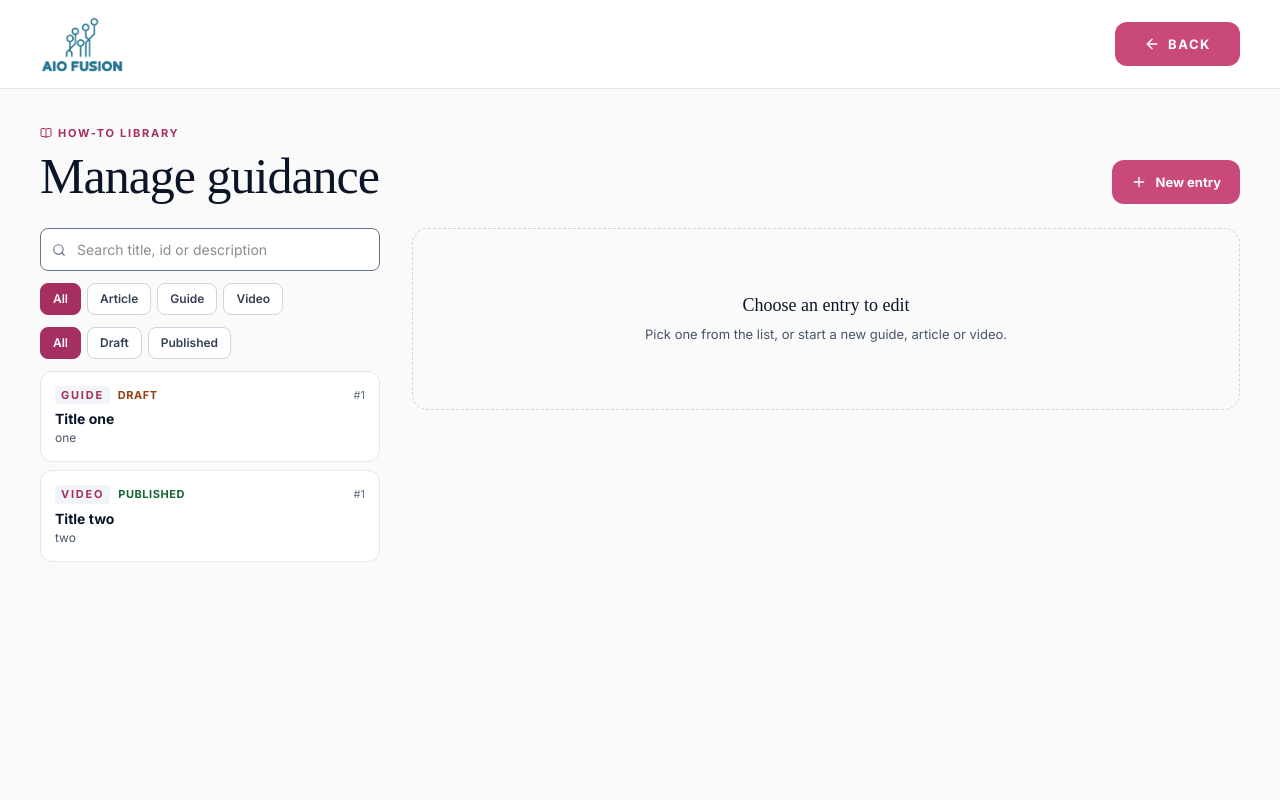
Test: HowtoAdminPage › guards switching entries when dirty and warns before unload
Step 1. Click the button with test id "row-entry-one" → (82, 395), box [40,371,380,462]
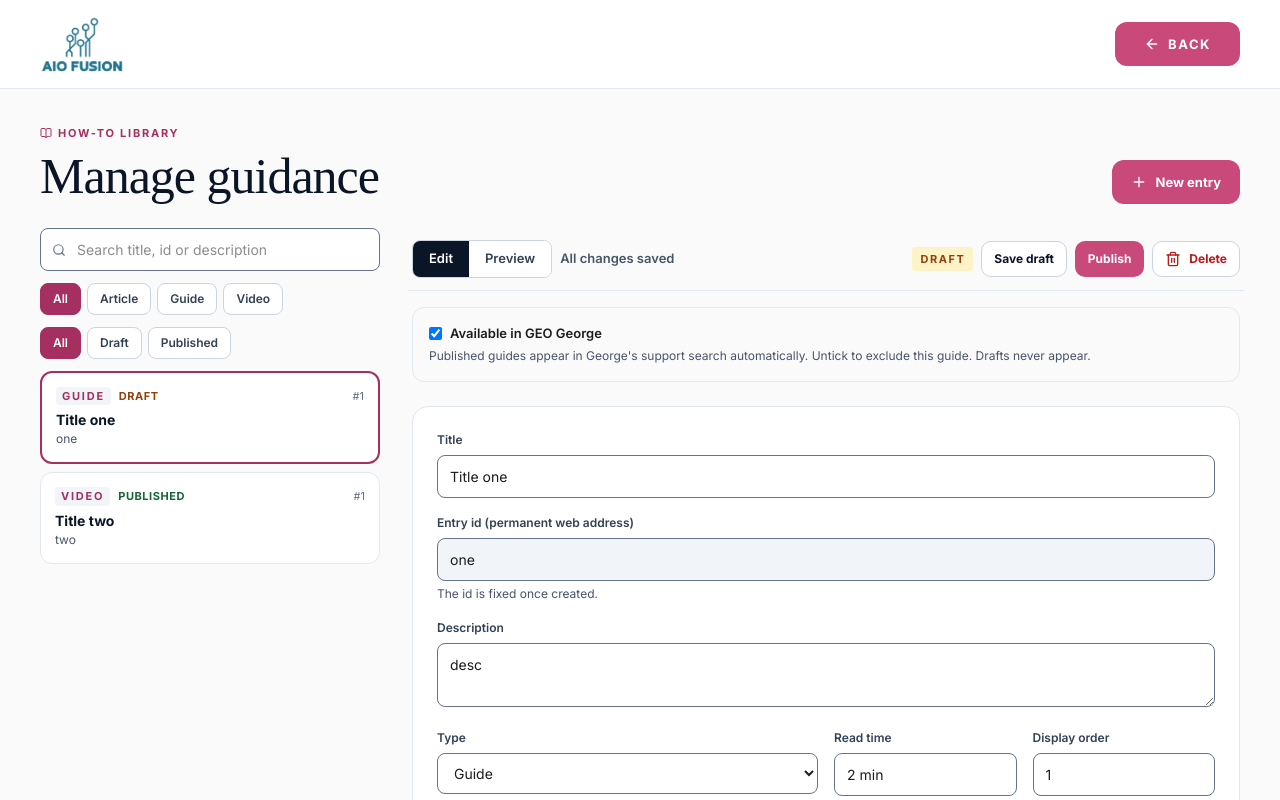
Step 2. Replace the text in the field with test id "input-title" with "Changed" → (826, 477), box [437,455,1215,498]
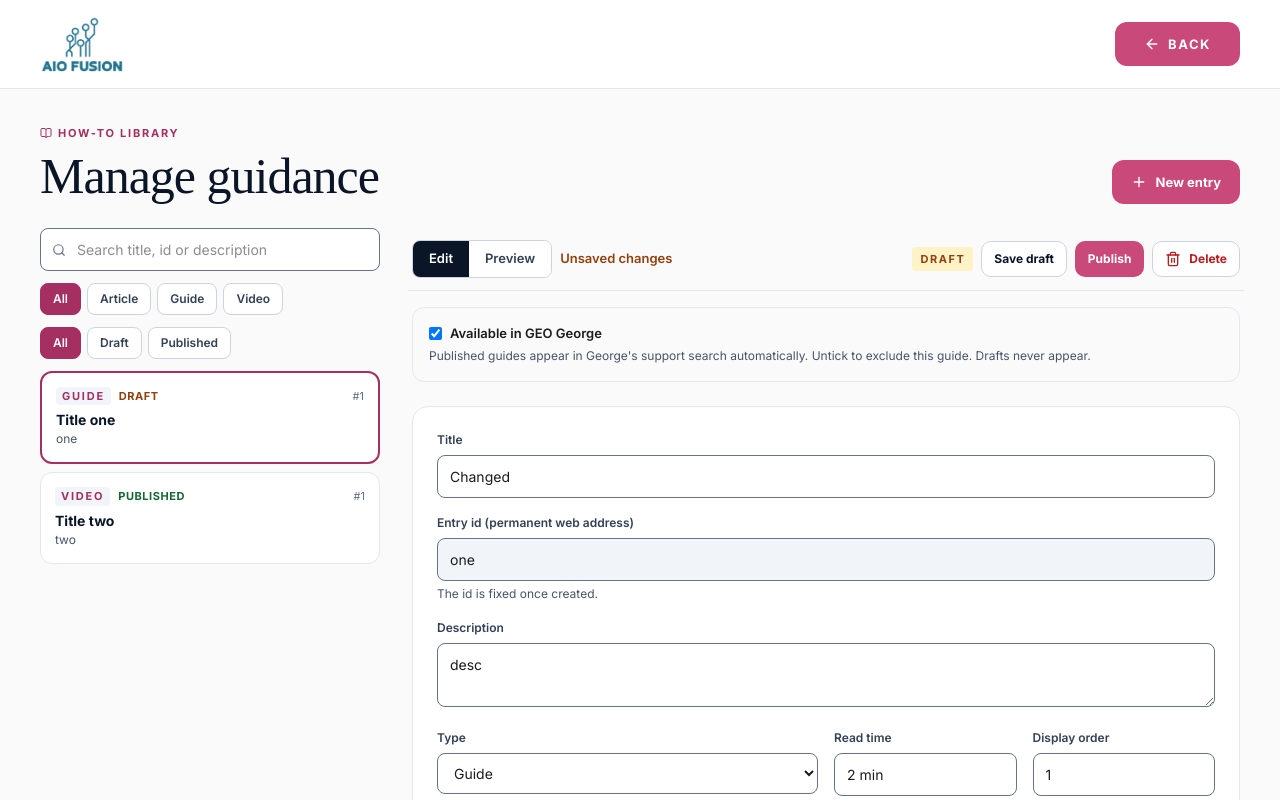
Step 3. Click the button with test id "row-entry-two" → (83, 497), box [40,472,380,564]
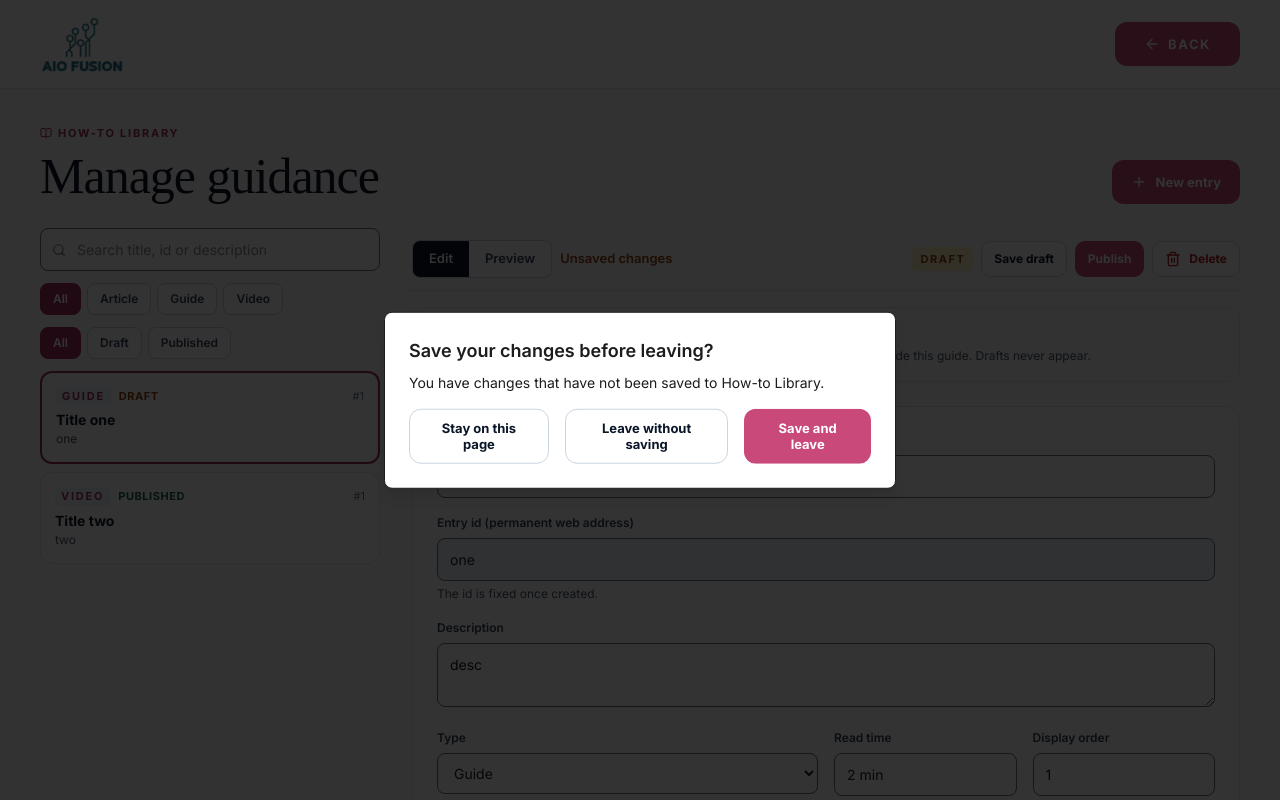
Check: the dialog is shown, box [384,312,896,488]
Step 4. Click the button "Stay on this page" → (479, 436), box [409,409,549,463]
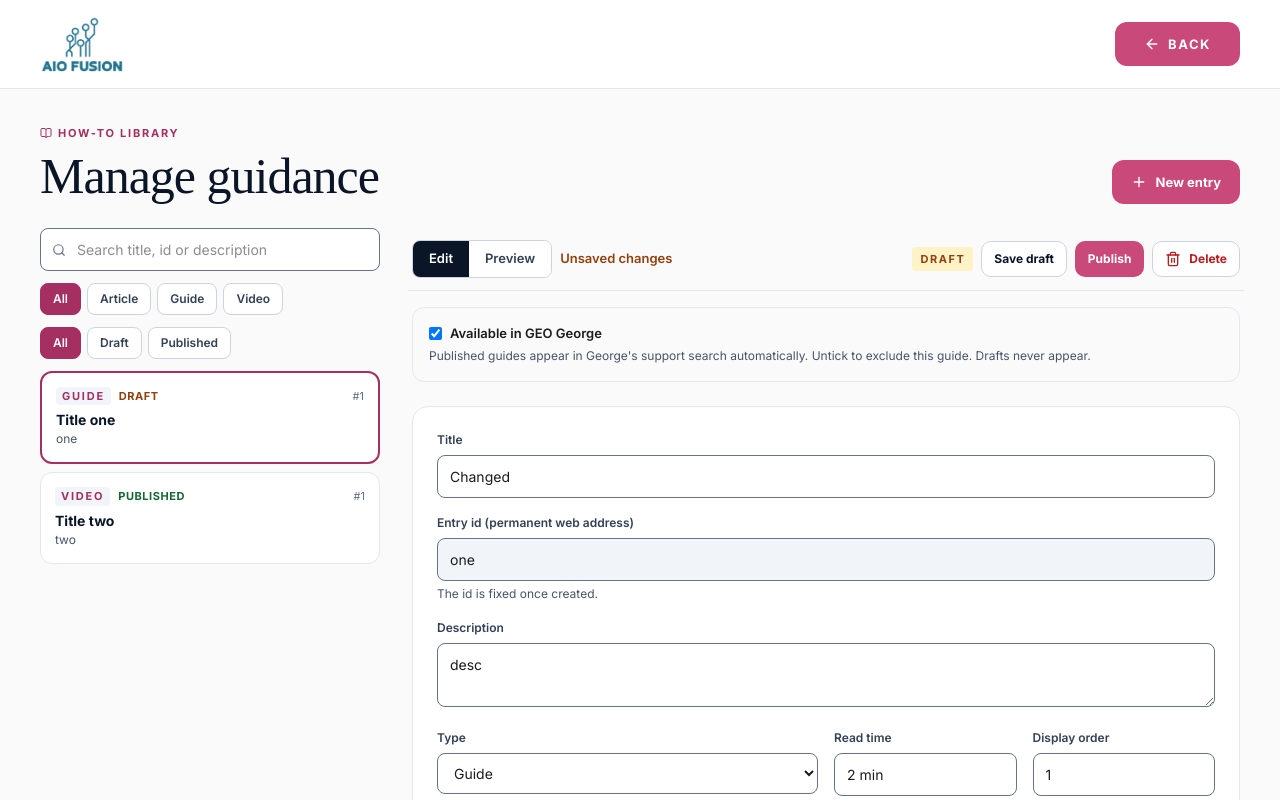
Step 5. Click the button with test id "row-entry-two" → (83, 497), box [40,472,380,564]
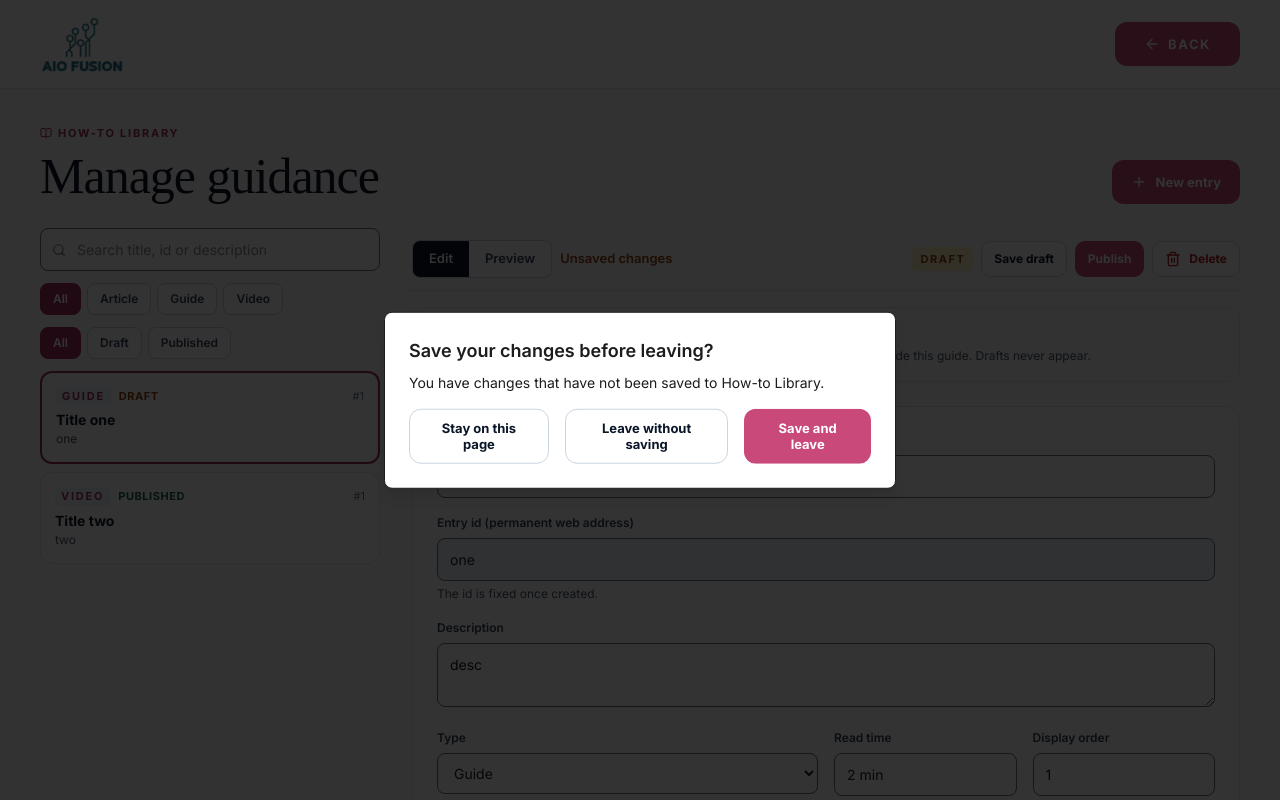
Step 6. Click the button "Leave without saving" → (647, 436), box [565,409,728,463]
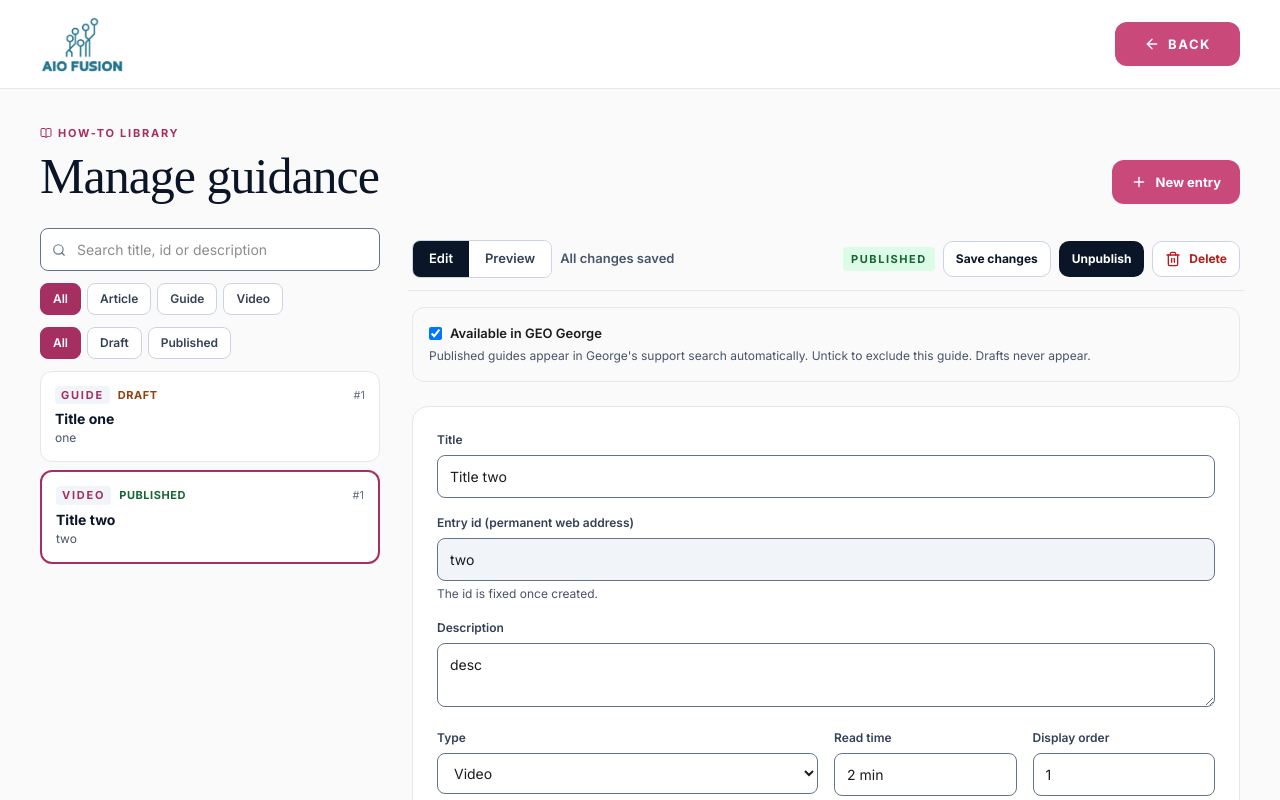
Check: the field with test id "input-title" holds "Title two", box [437,455,1215,498]
